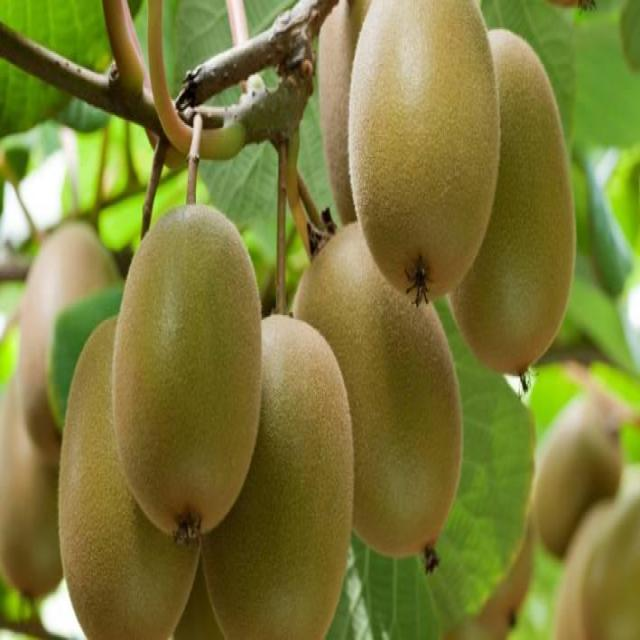kiwi: (291, 214, 467, 580), (198, 297, 358, 640), (113, 190, 265, 548), (348, 1, 505, 318), (445, 22, 580, 383), (56, 308, 202, 640), (19, 209, 136, 476), (3, 341, 74, 608), (533, 385, 629, 572), (310, 1, 370, 243), (479, 521, 542, 640)
